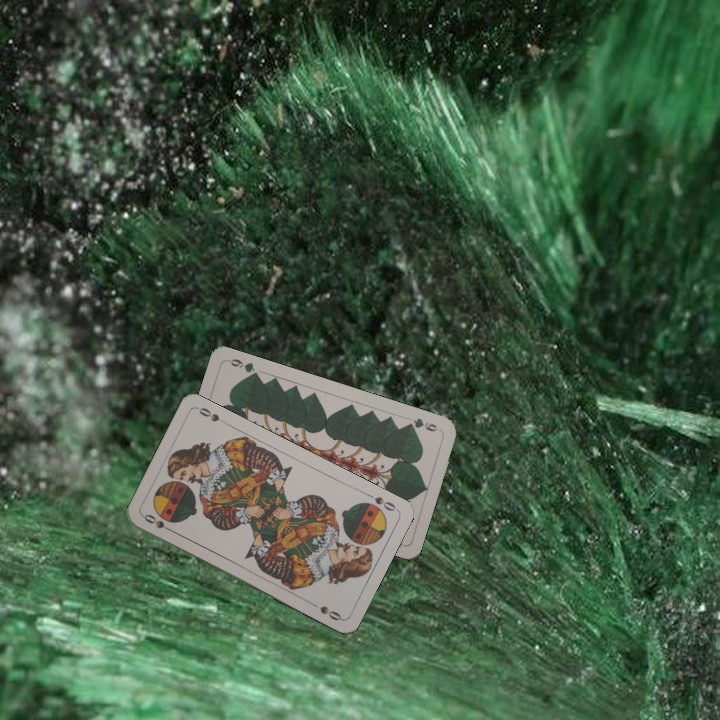G9: (402, 414, 443, 434)
SO: (362, 489, 400, 514), (140, 510, 177, 535)
